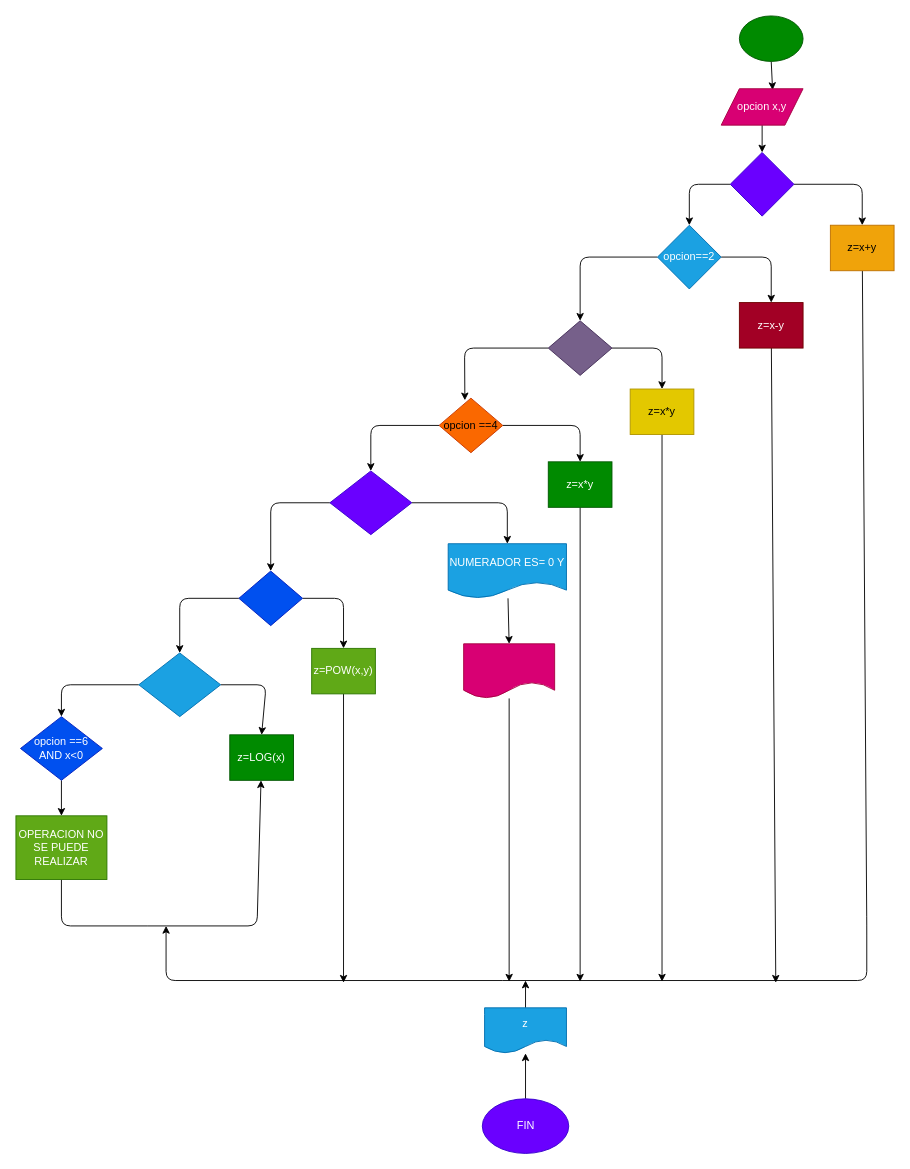
This 910x1169 diagram has some shape labels left out. Here are the shapes that lost their labels. From the top down, the centre of each, then its label:
point 770,38: INICIO
point 761,184: opcion==1
point 579,347: opcion ==3
point 370,502: opcion ==4 and Y !=0
point 270,598: opcion ==5
point 179,684: opcion ==6 AND x>0
point 509,670: ¿NO SE PUEDE REALIZAR LA OPCION
